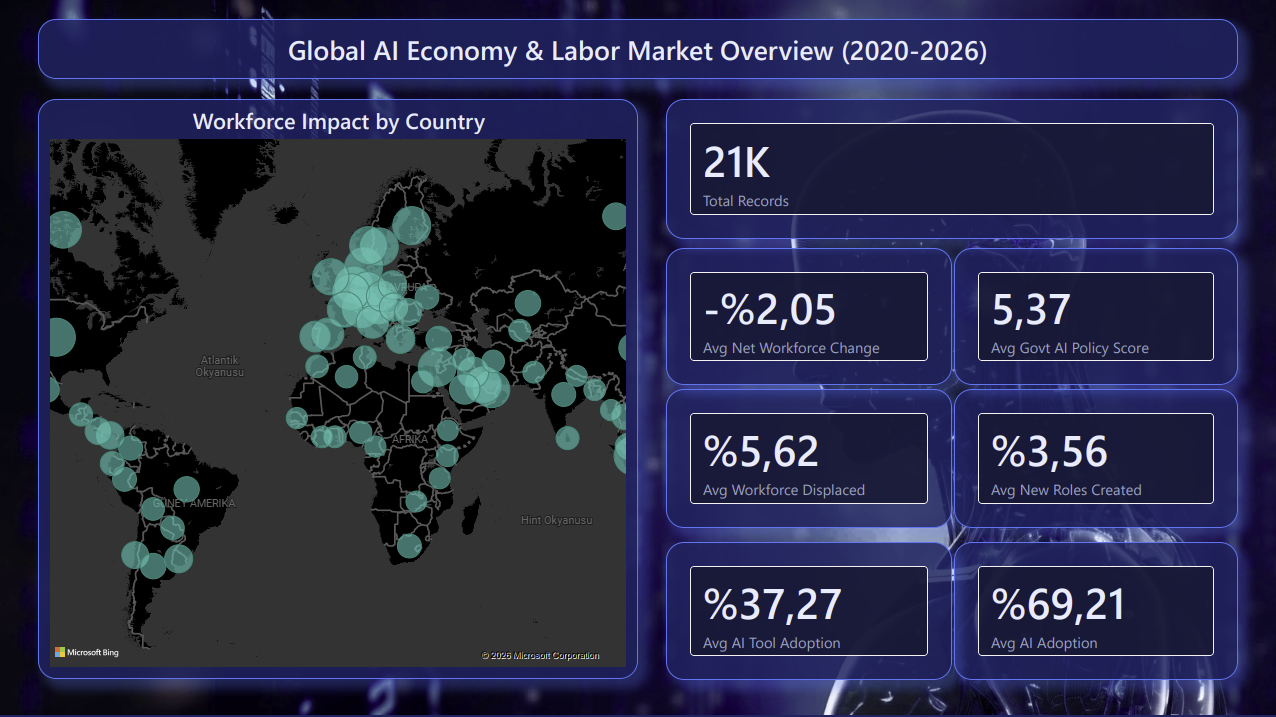

Layout of this report page (visuals, bound fields, positions):
{"tool":"powerbi","page":{"name":"Overview","canvas":[1280,720],"ordinal":1},"visuals":[{"type":"cardVisual","title":"AI Adoption Index","fields":{"Data":["ai_workforce_displacement_global_2020_2026.Avg AI Adoption"]},"box":[956.2,542.5,283.8,138.8],"z":0},{"type":"cardVisual","fields":{"Data":["ai_workforce_displacement_global_2020_2026.Avg AI Tool Adoption %"]},"box":[667.5,542.5,286.2,138.8],"z":1000},{"type":"cardVisual","fields":{"Data":["ai_workforce_displacement_global_2020_2026.Avg Workforce Displaced %"]},"box":[667.5,390,286.2,138.8],"z":2000},{"type":"cardVisual","fields":{"Data":["ai_workforce_displacement_global_2020_2026.Avg New Roles Created %"]},"box":[956.2,390,283.8,138.8],"z":3000},{"type":"cardVisual","fields":{"Data":["ai_workforce_displacement_global_2020_2026.Avg Net Workforce Change %"]},"box":[667.5,248.8,286.2,137.5],"z":4000},{"type":"cardVisual","fields":{"Data":["ai_workforce_displacement_global_2020_2026.Avg Govt AI Policy Score"]},"box":[956.2,248.8,283.8,137.5],"z":5000},{"type":"cardVisual","fields":{"Data":["ai_workforce_displacement_global_2020_2026.Total Records"]},"box":[667.5,100,572.5,140],"z":6000},{"type":"textbox","box":[40,20,1200,60],"z":7000},{"type":"map","title":"Workforce Impact by Country","fields":{"Category":["Country.country"],"Size":["ai_workforce_displacement_global_2020_2026.Avg Workforce Displaced %"]},"box":[40,100,600,580],"z":8000}]}

Visuals, with their boxes in screenshot pixels (x1, y1, x2, y2), scaled from the page's 1280x720 canvas onto the 1276x717 screenshot:
"AI Adoption Index" cardVisual: select_region(953, 540, 1236, 678)
cardVisual - ai_workforce_displacement_global_2020_2026.Avg AI Tool Adoption %: select_region(665, 540, 951, 678)
cardVisual - ai_workforce_displacement_global_2020_2026.Avg Workforce Displaced %: select_region(665, 388, 951, 527)
cardVisual - ai_workforce_displacement_global_2020_2026.Avg New Roles Created %: select_region(953, 388, 1236, 527)
cardVisual - ai_workforce_displacement_global_2020_2026.Avg Net Workforce Change %: select_region(665, 248, 951, 385)
cardVisual - ai_workforce_displacement_global_2020_2026.Avg Govt AI Policy Score: select_region(953, 248, 1236, 385)
cardVisual - ai_workforce_displacement_global_2020_2026.Total Records: select_region(665, 100, 1236, 239)
textbox: select_region(40, 20, 1236, 80)
"Workforce Impact by Country" map: select_region(40, 100, 638, 677)
